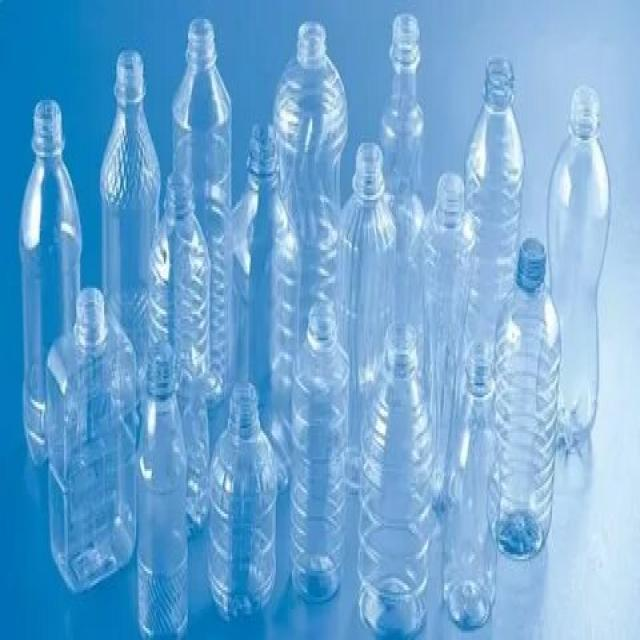blue: (499, 243, 561, 556)
